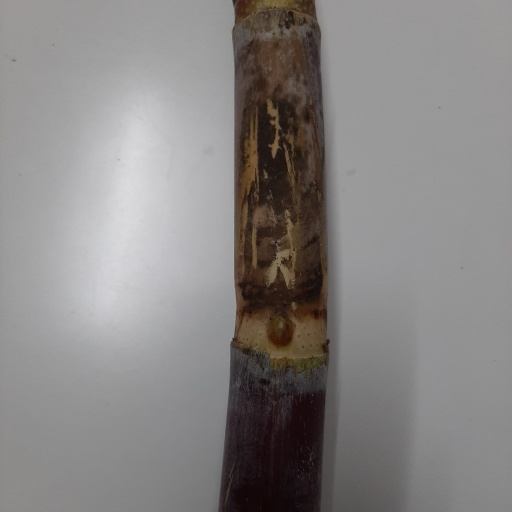Bud: (266, 313, 291, 347)
